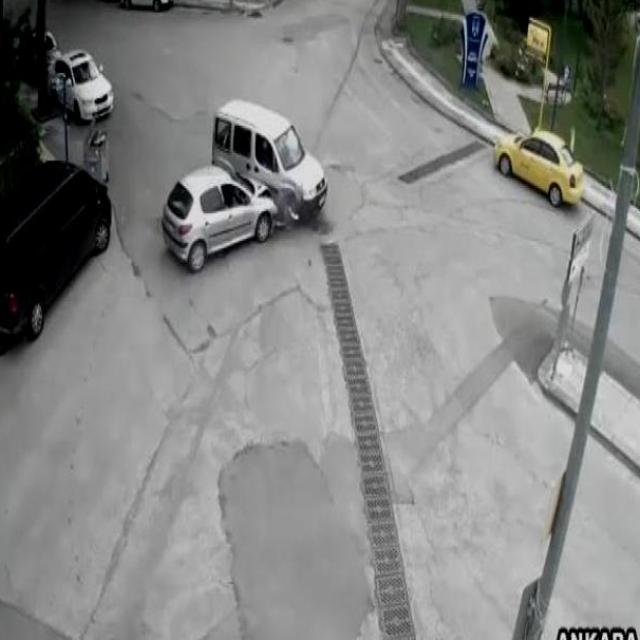accident: (156, 93, 328, 275)
